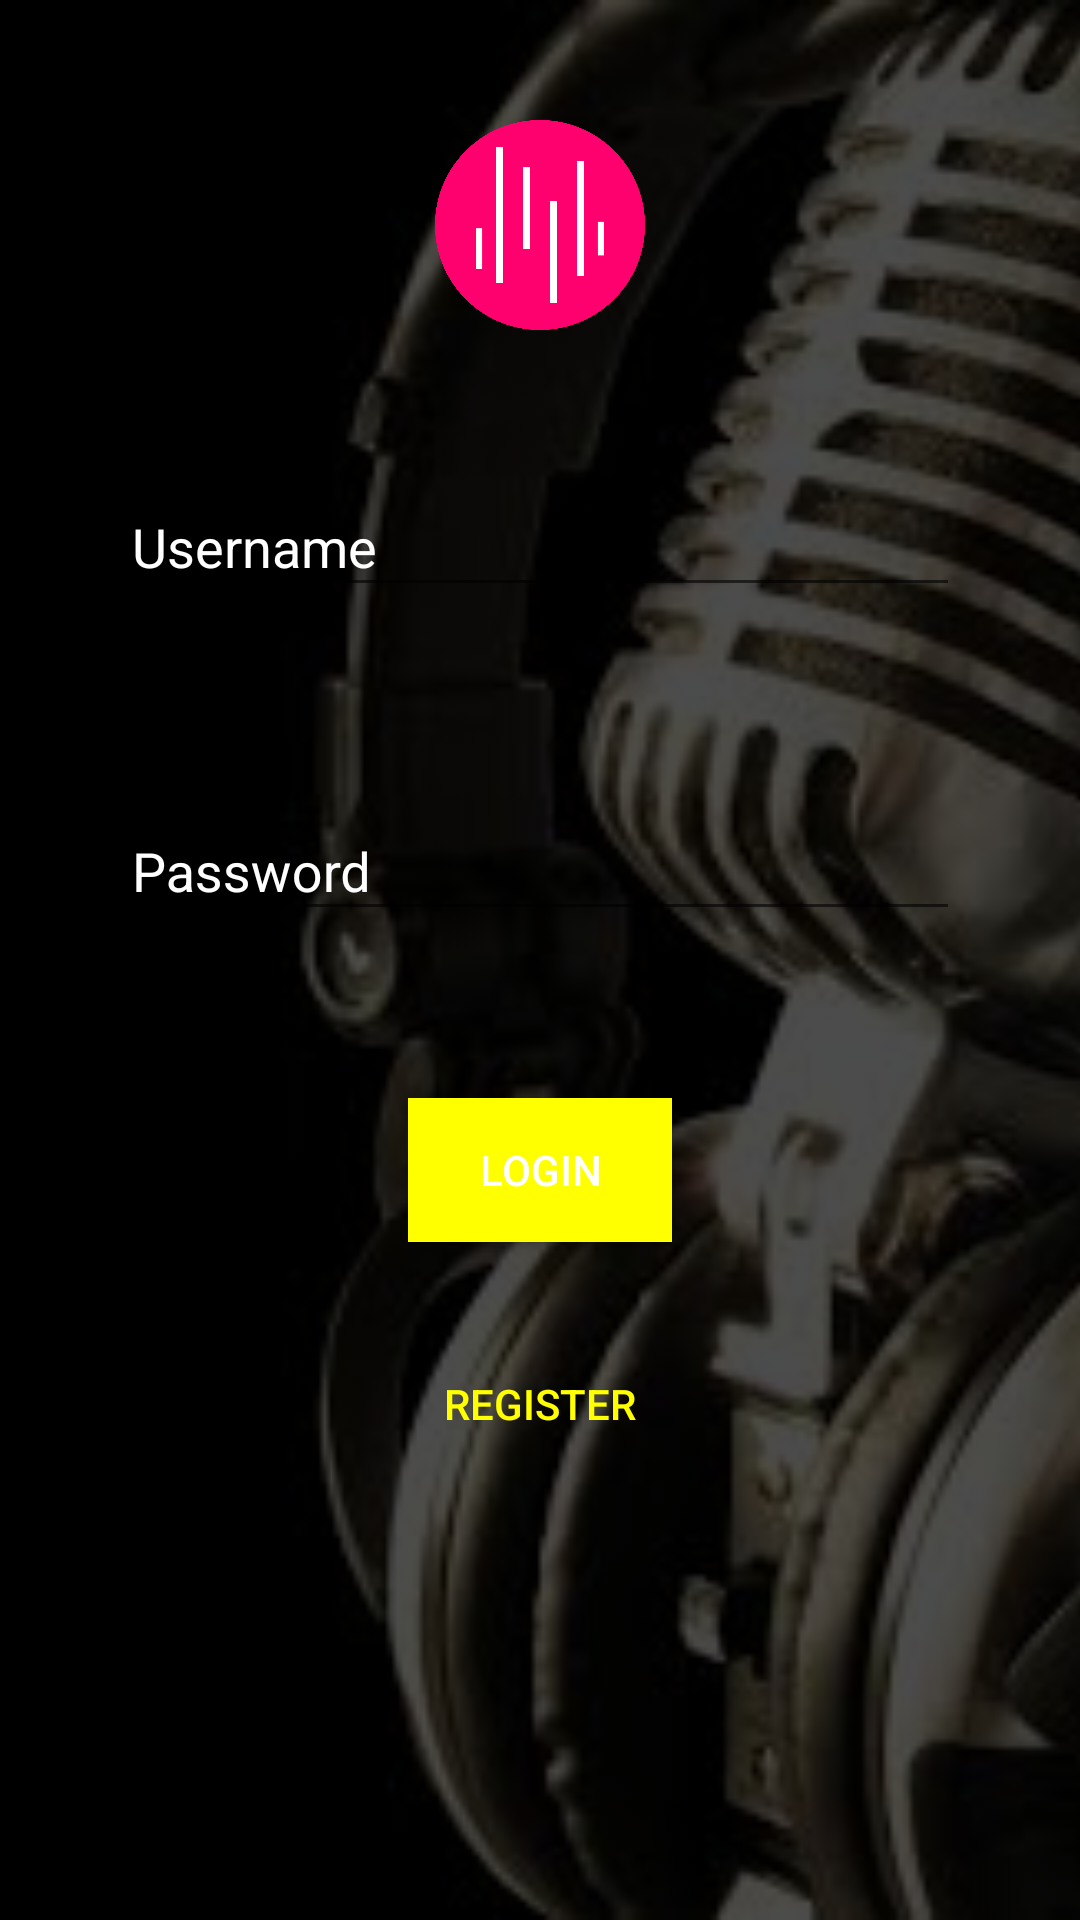

Icon click points for this 1080px x 1920px phone screenshot, format point (x, y):
audiosearch: point (540, 225)
